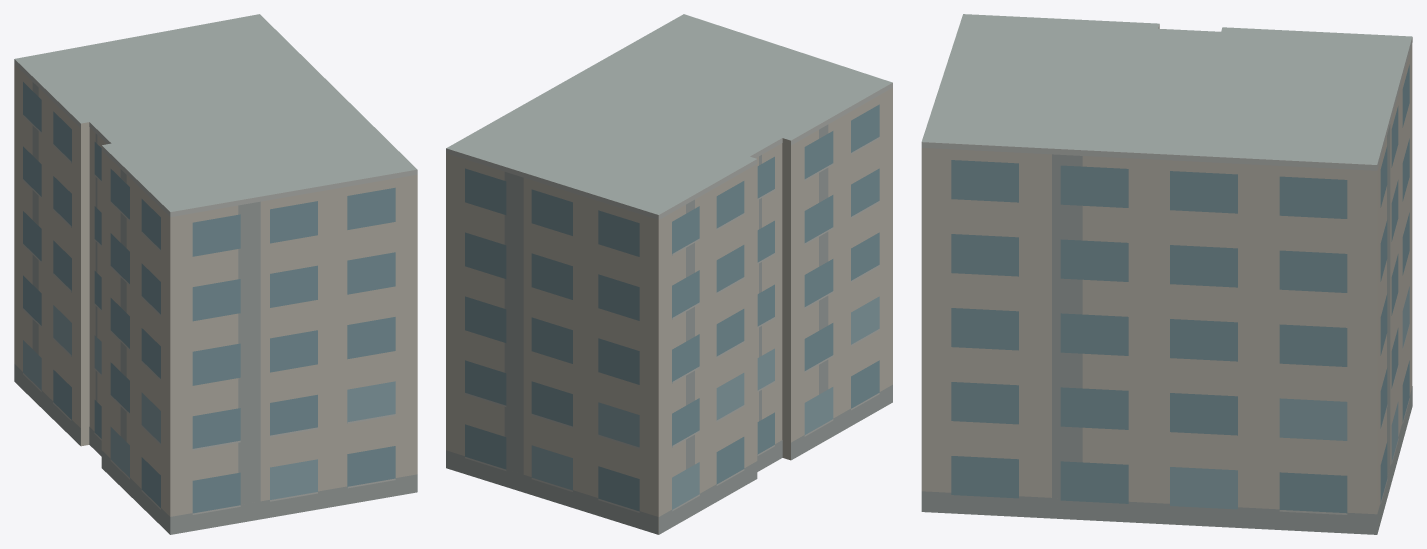
Rendered from survey-upis-32819218.glb.
3 views of the same model, side by side, from view 1: azimuth 30°, elevation 25°; view 2: azimuth 150°, elevation 25°; view 3: azimuth 270°, elevation 25° (orthographic). The views are drawn at different scales.
Parts seen in each view (by area): view 1: survey-upis-32819218.tmp; view 2: survey-upis-32819218.tmp; view 3: survey-upis-32819218.tmp.
Boxes of the visible parts, x1=… form: survey-upis-32819218.tmp: x1=14, y1=14, x2=417, y2=534; survey-upis-32819218.tmp: x1=446, y1=14, x2=892, y2=534; survey-upis-32819218.tmp: x1=921, y1=14, x2=1412, y2=534.
Bounding box in the file's own units: 13.76 × 15.7 × 18.9.
